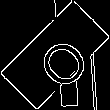O_NW: (22, 22, 88, 88)
